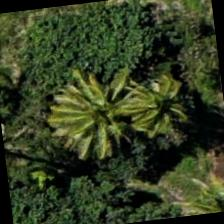Kelapa_Sawit: (110, 54, 210, 154), (48, 64, 148, 164)
